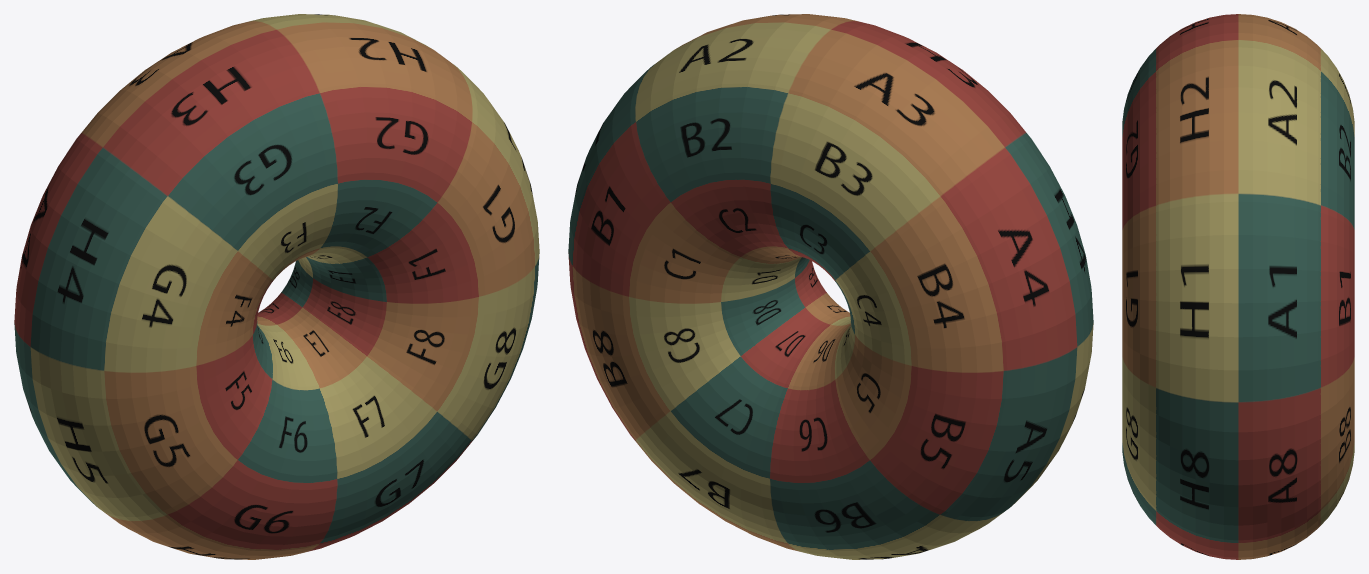
The model's file is texture_torus_R3_r26.glb.
3 renders of one model, left to right at view 1: azimuth 30°, elevation 25°; view 2: azimuth 150°, elevation 25°; view 3: azimuth 270°, elevation 25°, orthographic. The views are drawn at different scales.
Parts seen in each view (by area): view 1: world; view 2: world; view 3: world.
Boxes of the visible parts, x1,y1,x2,y2 form: world: (14,14,539,559); world: (568,14,1093,559); world: (1122,14,1354,559).
Bounding box in the file's own units: 20.93 × 20.89 × 8.92.
Materials: 1 (1 with a texture image).
